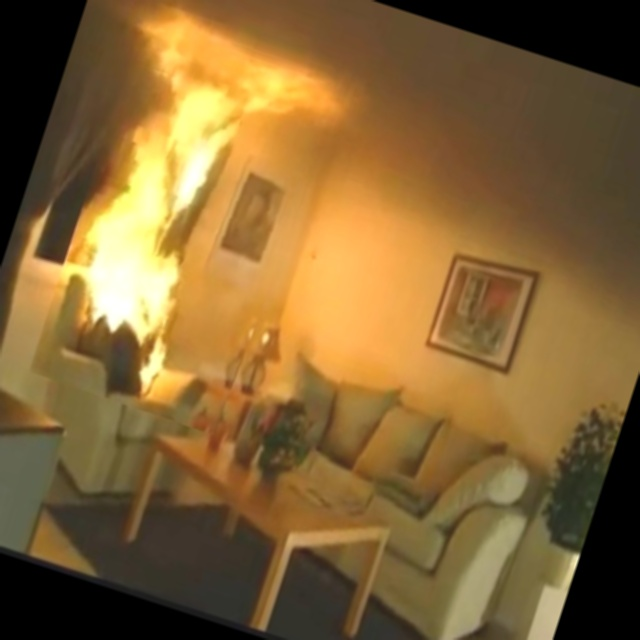fire: (54, 17, 312, 364)
smoke: (317, 4, 640, 311)
